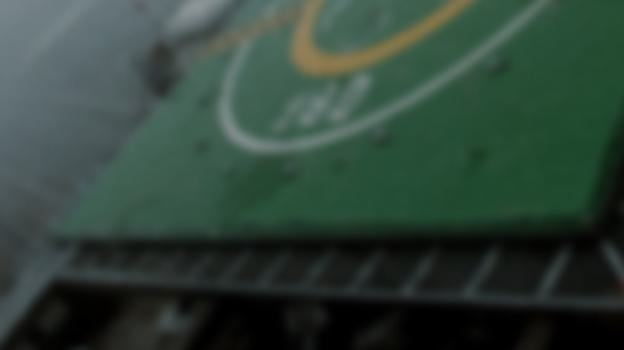Apron: (279, 1, 502, 81)
